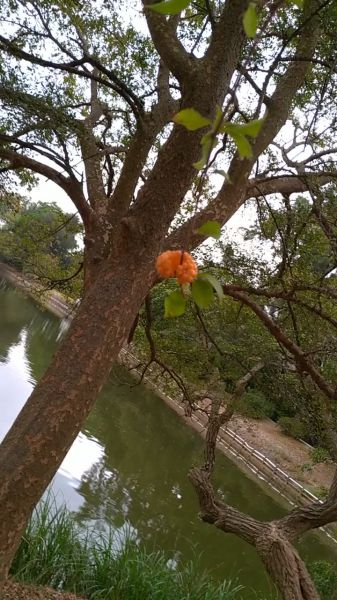eggs: (152, 244, 201, 286)
